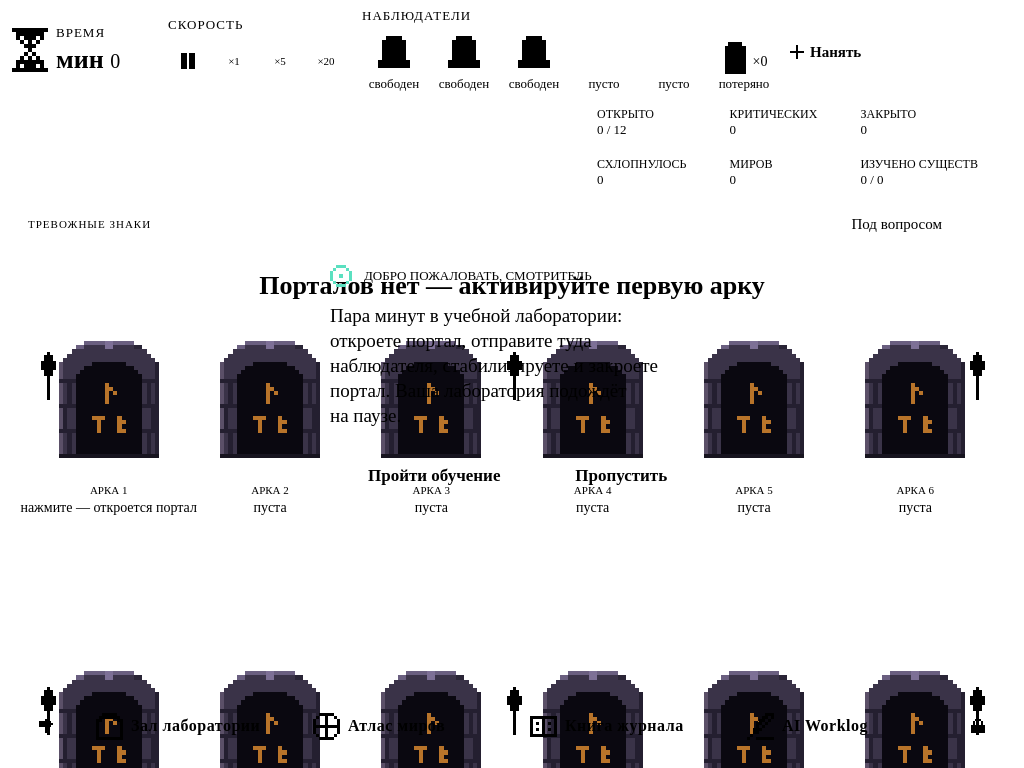
Test: приглашение › «Пропустить» закрывает свиток и ставит флаг
This screenshot has width=1024, height=768.
Check: the text "ДОБРО ПОЖАЛОВАТЬ, СМОТРИТЕЛЬ" is shown, box [364,266,592,286]
Click the button "Пропустить" at (621, 476), box [548,450,694,502]
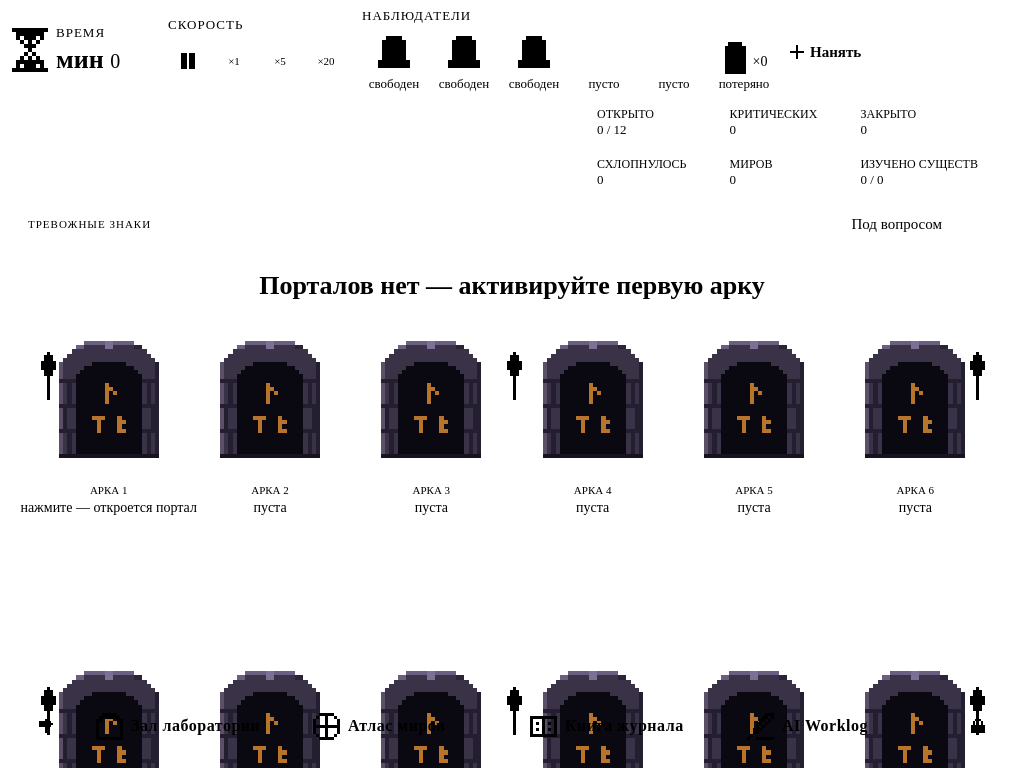
Check: the text "ДОБРО ПОЖАЛОВАТЬ, СМОТРИТЕЛЬ" is gone
Check: the button "обучение" is gone
